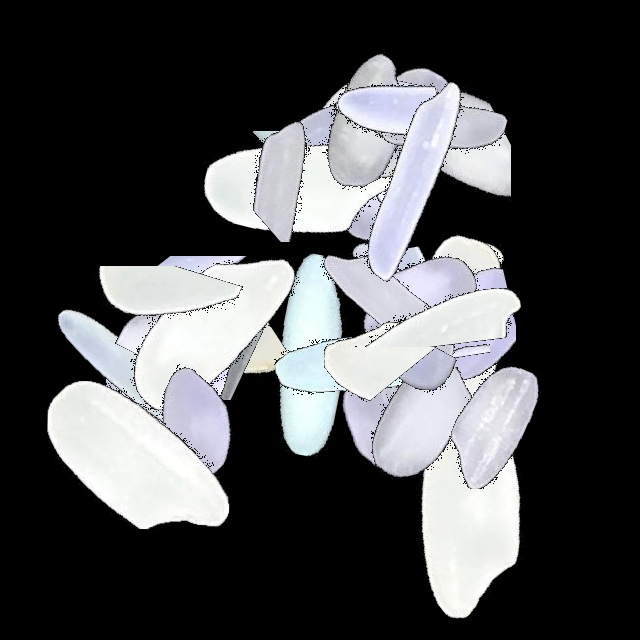Broken: (224, 38, 474, 210), (292, 260, 463, 510), (300, 229, 550, 394), (192, 81, 442, 242), (322, 329, 572, 489), (239, 75, 489, 228), (363, 209, 516, 459), (360, 38, 511, 288), (223, 68, 349, 318), (66, 256, 316, 379), (324, 0, 443, 250), (40, 266, 290, 383), (268, 332, 518, 448), (300, 231, 550, 347), (262, 80, 512, 195), (46, 254, 296, 365), (324, 196, 434, 446), (344, 179, 451, 429), (71, 293, 321, 400), (282, 257, 532, 358), (395, 186, 490, 436), (113, 315, 363, 406), (26, 349, 276, 439), (310, 295, 560, 384), (404, 269, 485, 519)
Full: (302, 200, 552, 450), (47, 249, 297, 499), (34, 230, 284, 480), (324, 208, 574, 458), (74, 264, 324, 514), (244, 63, 494, 313), (298, 180, 548, 430), (185, 231, 435, 481), (221, 8, 471, 258), (4, 246, 254, 496), (177, 61, 427, 311), (231, 236, 481, 486), (88, 199, 338, 449), (280, 0, 530, 250), (340, 385, 590, 635), (286, 195, 536, 445), (239, 0, 489, 250), (311, 202, 561, 452), (295, 175, 545, 425), (71, 301, 321, 551), (14, 331, 264, 581), (295, 288, 545, 538), (266, 178, 516, 428), (304, 0, 554, 250), (290, 55, 540, 305)
